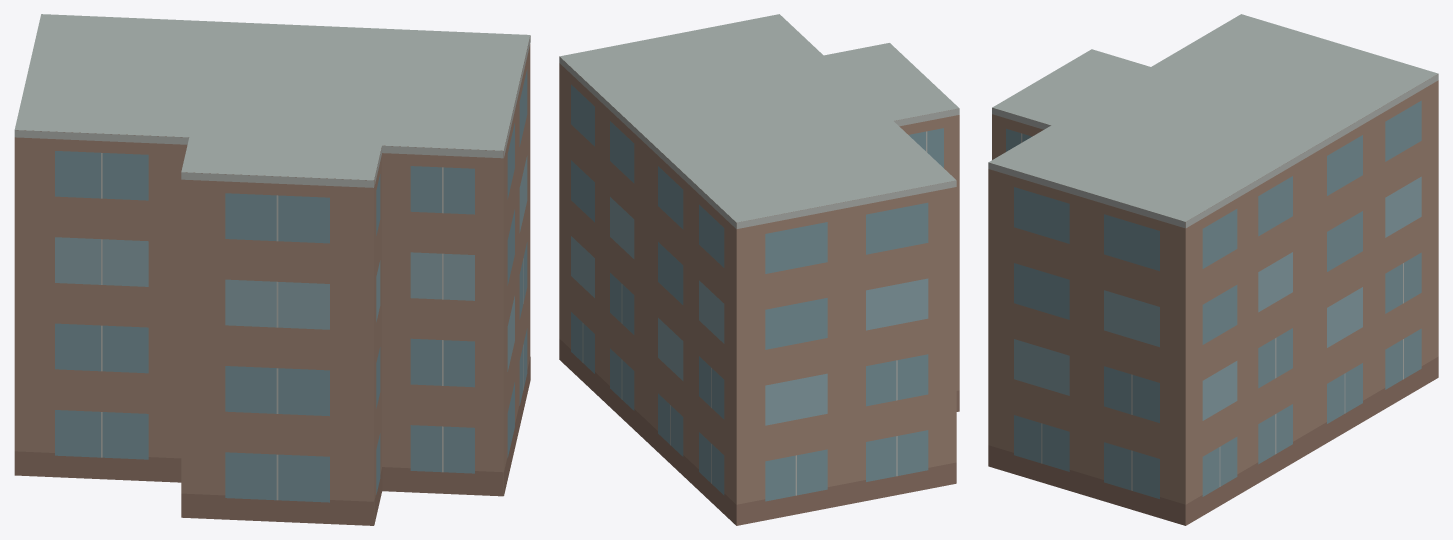
The model's file is survey-upis-32620189.glb.
3 renders of one model, left to right at view 1: azimuth 30°, elevation 25°; view 2: azimuth 150°, elevation 25°; view 3: azimuth 270°, elevation 25°, orthographic. The views are drawn at different scales.
Visible parts, largest first — view 1: survey-upis-32620189.tmp; view 2: survey-upis-32620189.tmp; view 3: survey-upis-32620189.tmp.
Part boxes in pixels (bbox=[...]): survey-upis-32620189.tmp: bbox=[14, 14, 530, 525]; survey-upis-32620189.tmp: bbox=[559, 14, 959, 525]; survey-upis-32620189.tmp: bbox=[988, 14, 1438, 525].
Size of the model in its own units: 16.58 by 11.3 by 15.18.
